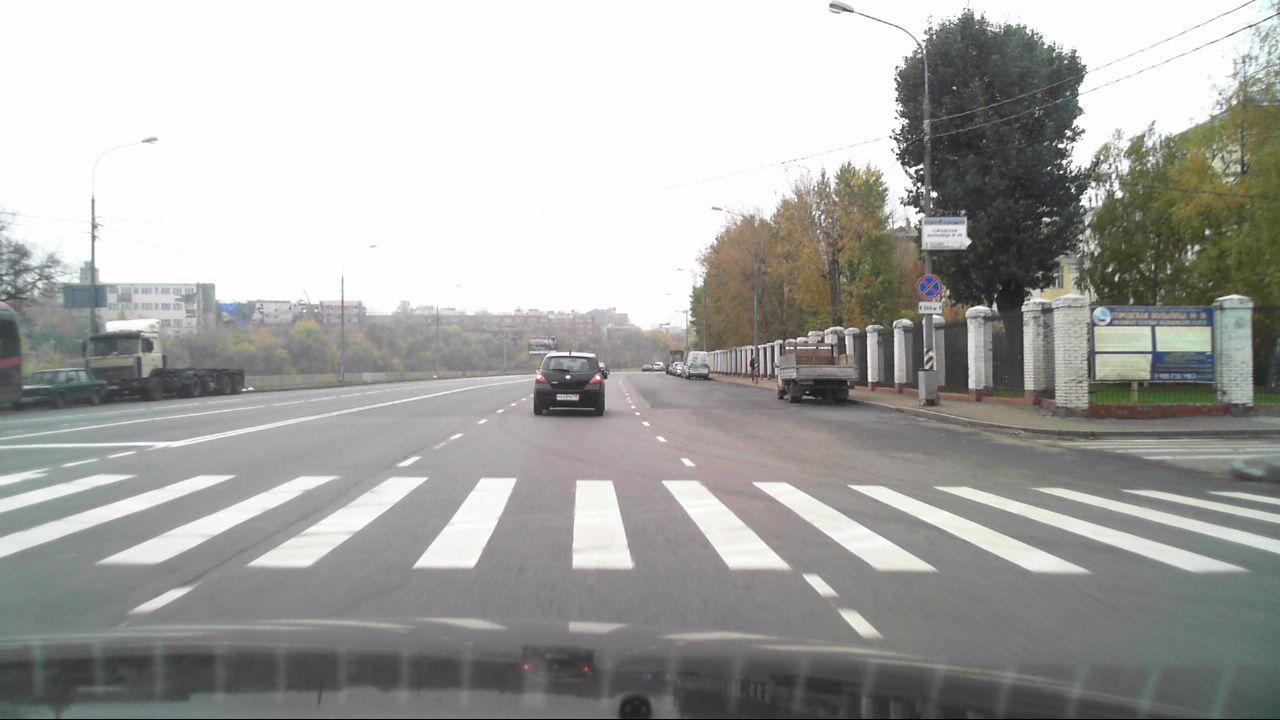road_sign: (916, 275, 942, 300), (917, 301, 944, 315)
